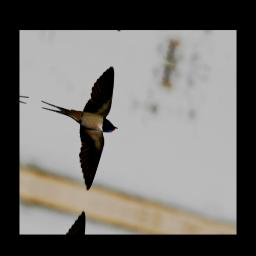Swallow: (26, 46, 129, 197)
